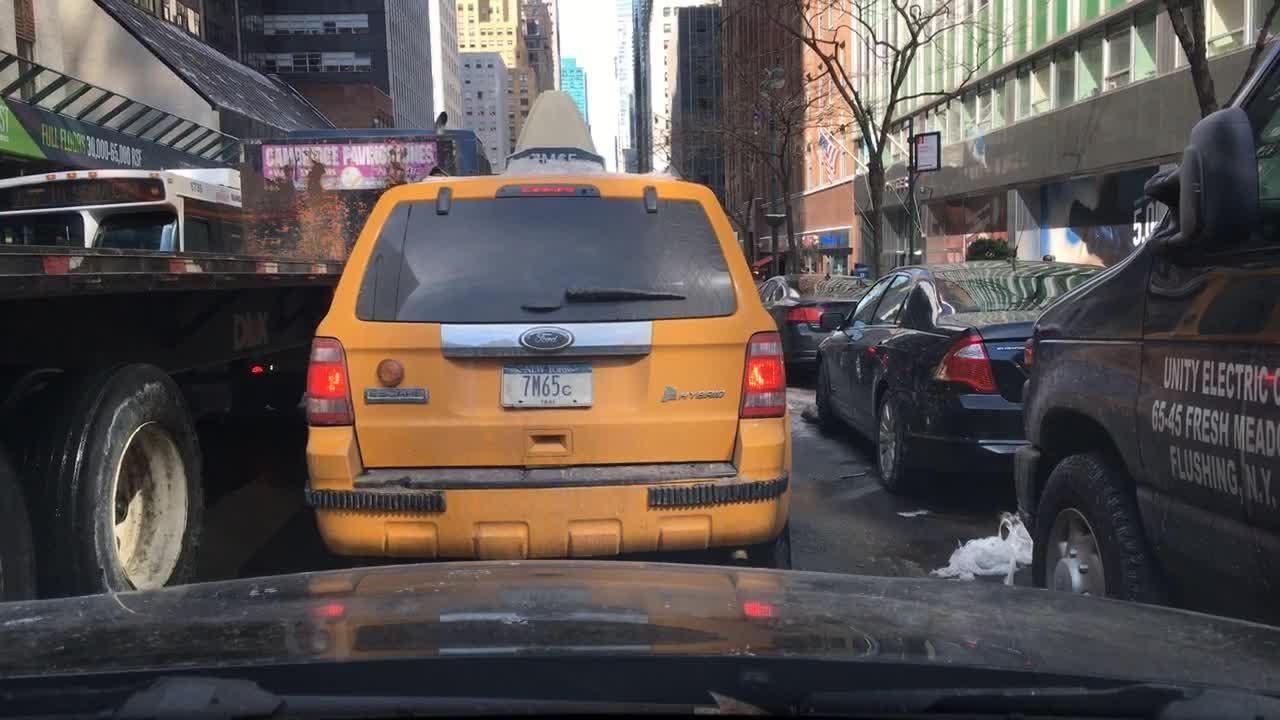ford: (518, 327, 575, 352)
